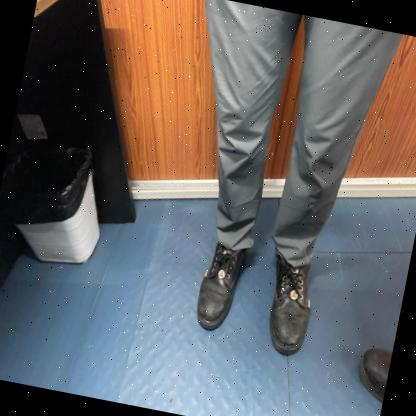bota: (258, 253, 321, 360), (191, 239, 250, 336)
